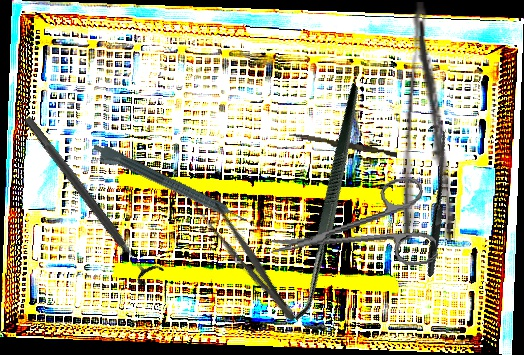Dressing Forceps: (398, 1, 468, 243), (190, 191, 304, 329)
Fixation Ring: (14, 108, 166, 289)
Handpiece: (88, 140, 249, 233)
Hook Surgical: (212, 82, 460, 340), (355, 122, 510, 278)
Iris Scissors: (263, 174, 439, 288)
Pusher: (288, 132, 398, 158)
